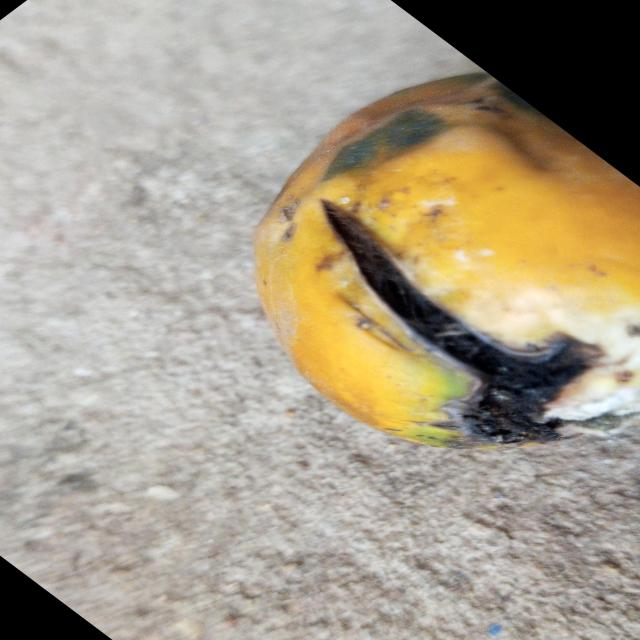damaged: (252, 73, 640, 450)
